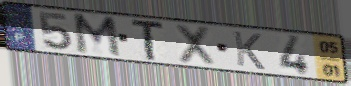4: (277, 34, 311, 76)
5: (36, 10, 75, 51)
K: (231, 29, 267, 72)
M: (70, 12, 123, 60)
T: (130, 19, 166, 62)
X: (173, 22, 217, 68)
